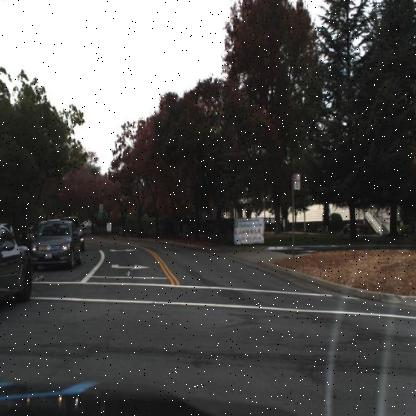car: (0, 222, 34, 310), (32, 223, 80, 274), (78, 214, 96, 233)
